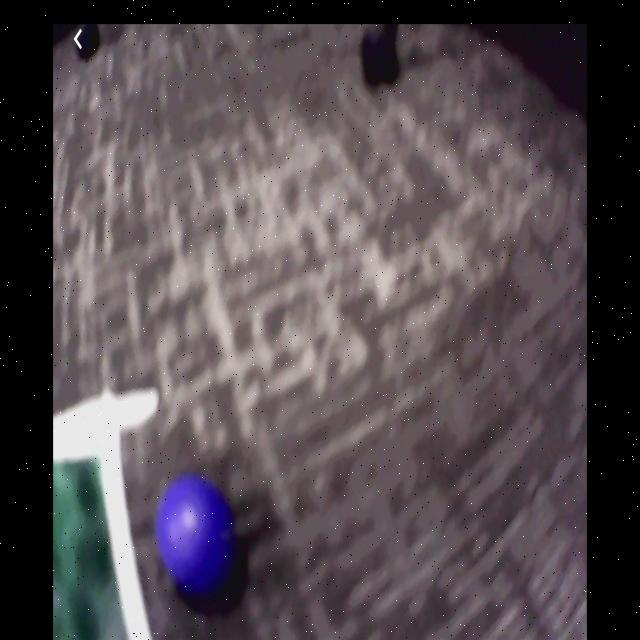ball: (158, 477, 241, 602)
